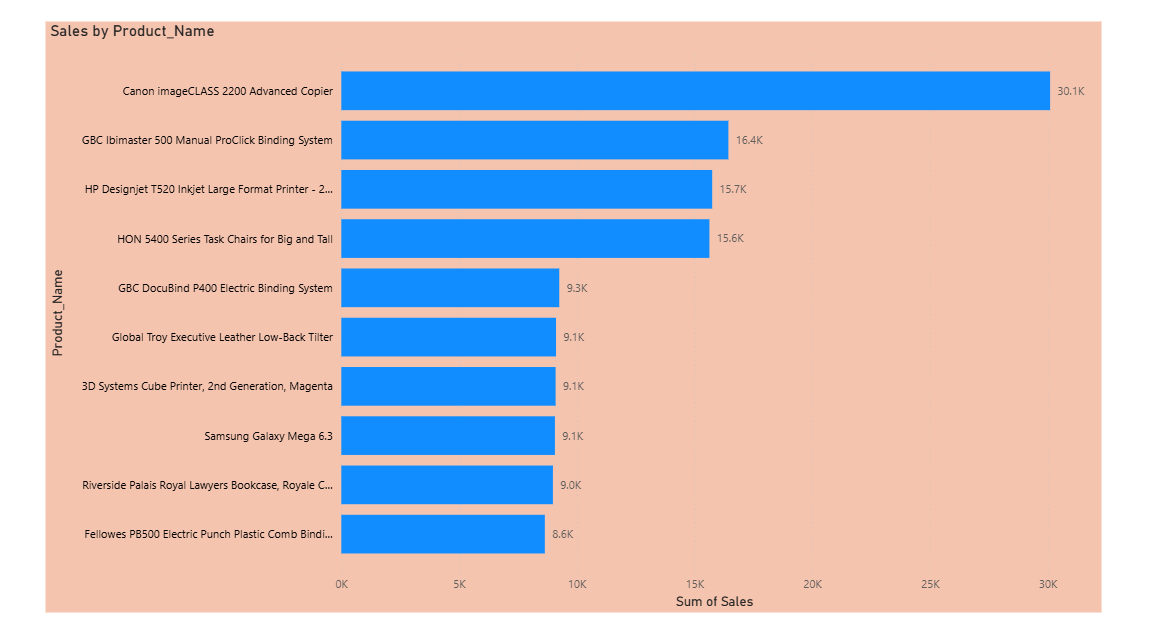

What the dashboard file says about the page in this screenshot:
{"tool":"powerbi","page":{"name":"Top Product by Sales","canvas":[1280,720],"ordinal":2},"visuals":[{"type":"barChart","title":"Sales by Product_Name","fields":{"Y":["Sum(sample_superstore.Sales)"],"Category":["sample_superstore.Product_Name"]},"box":[0,0,1093.3,675],"z":8000}]}

Visuals, with their boxes in screenshot pixels (x1, y1, x2, y2), scaled from the page's 1280x720 canvas onto the 1153x634 screenshot:
"Sales by Product_Name" barChart: 0/0/985/594
